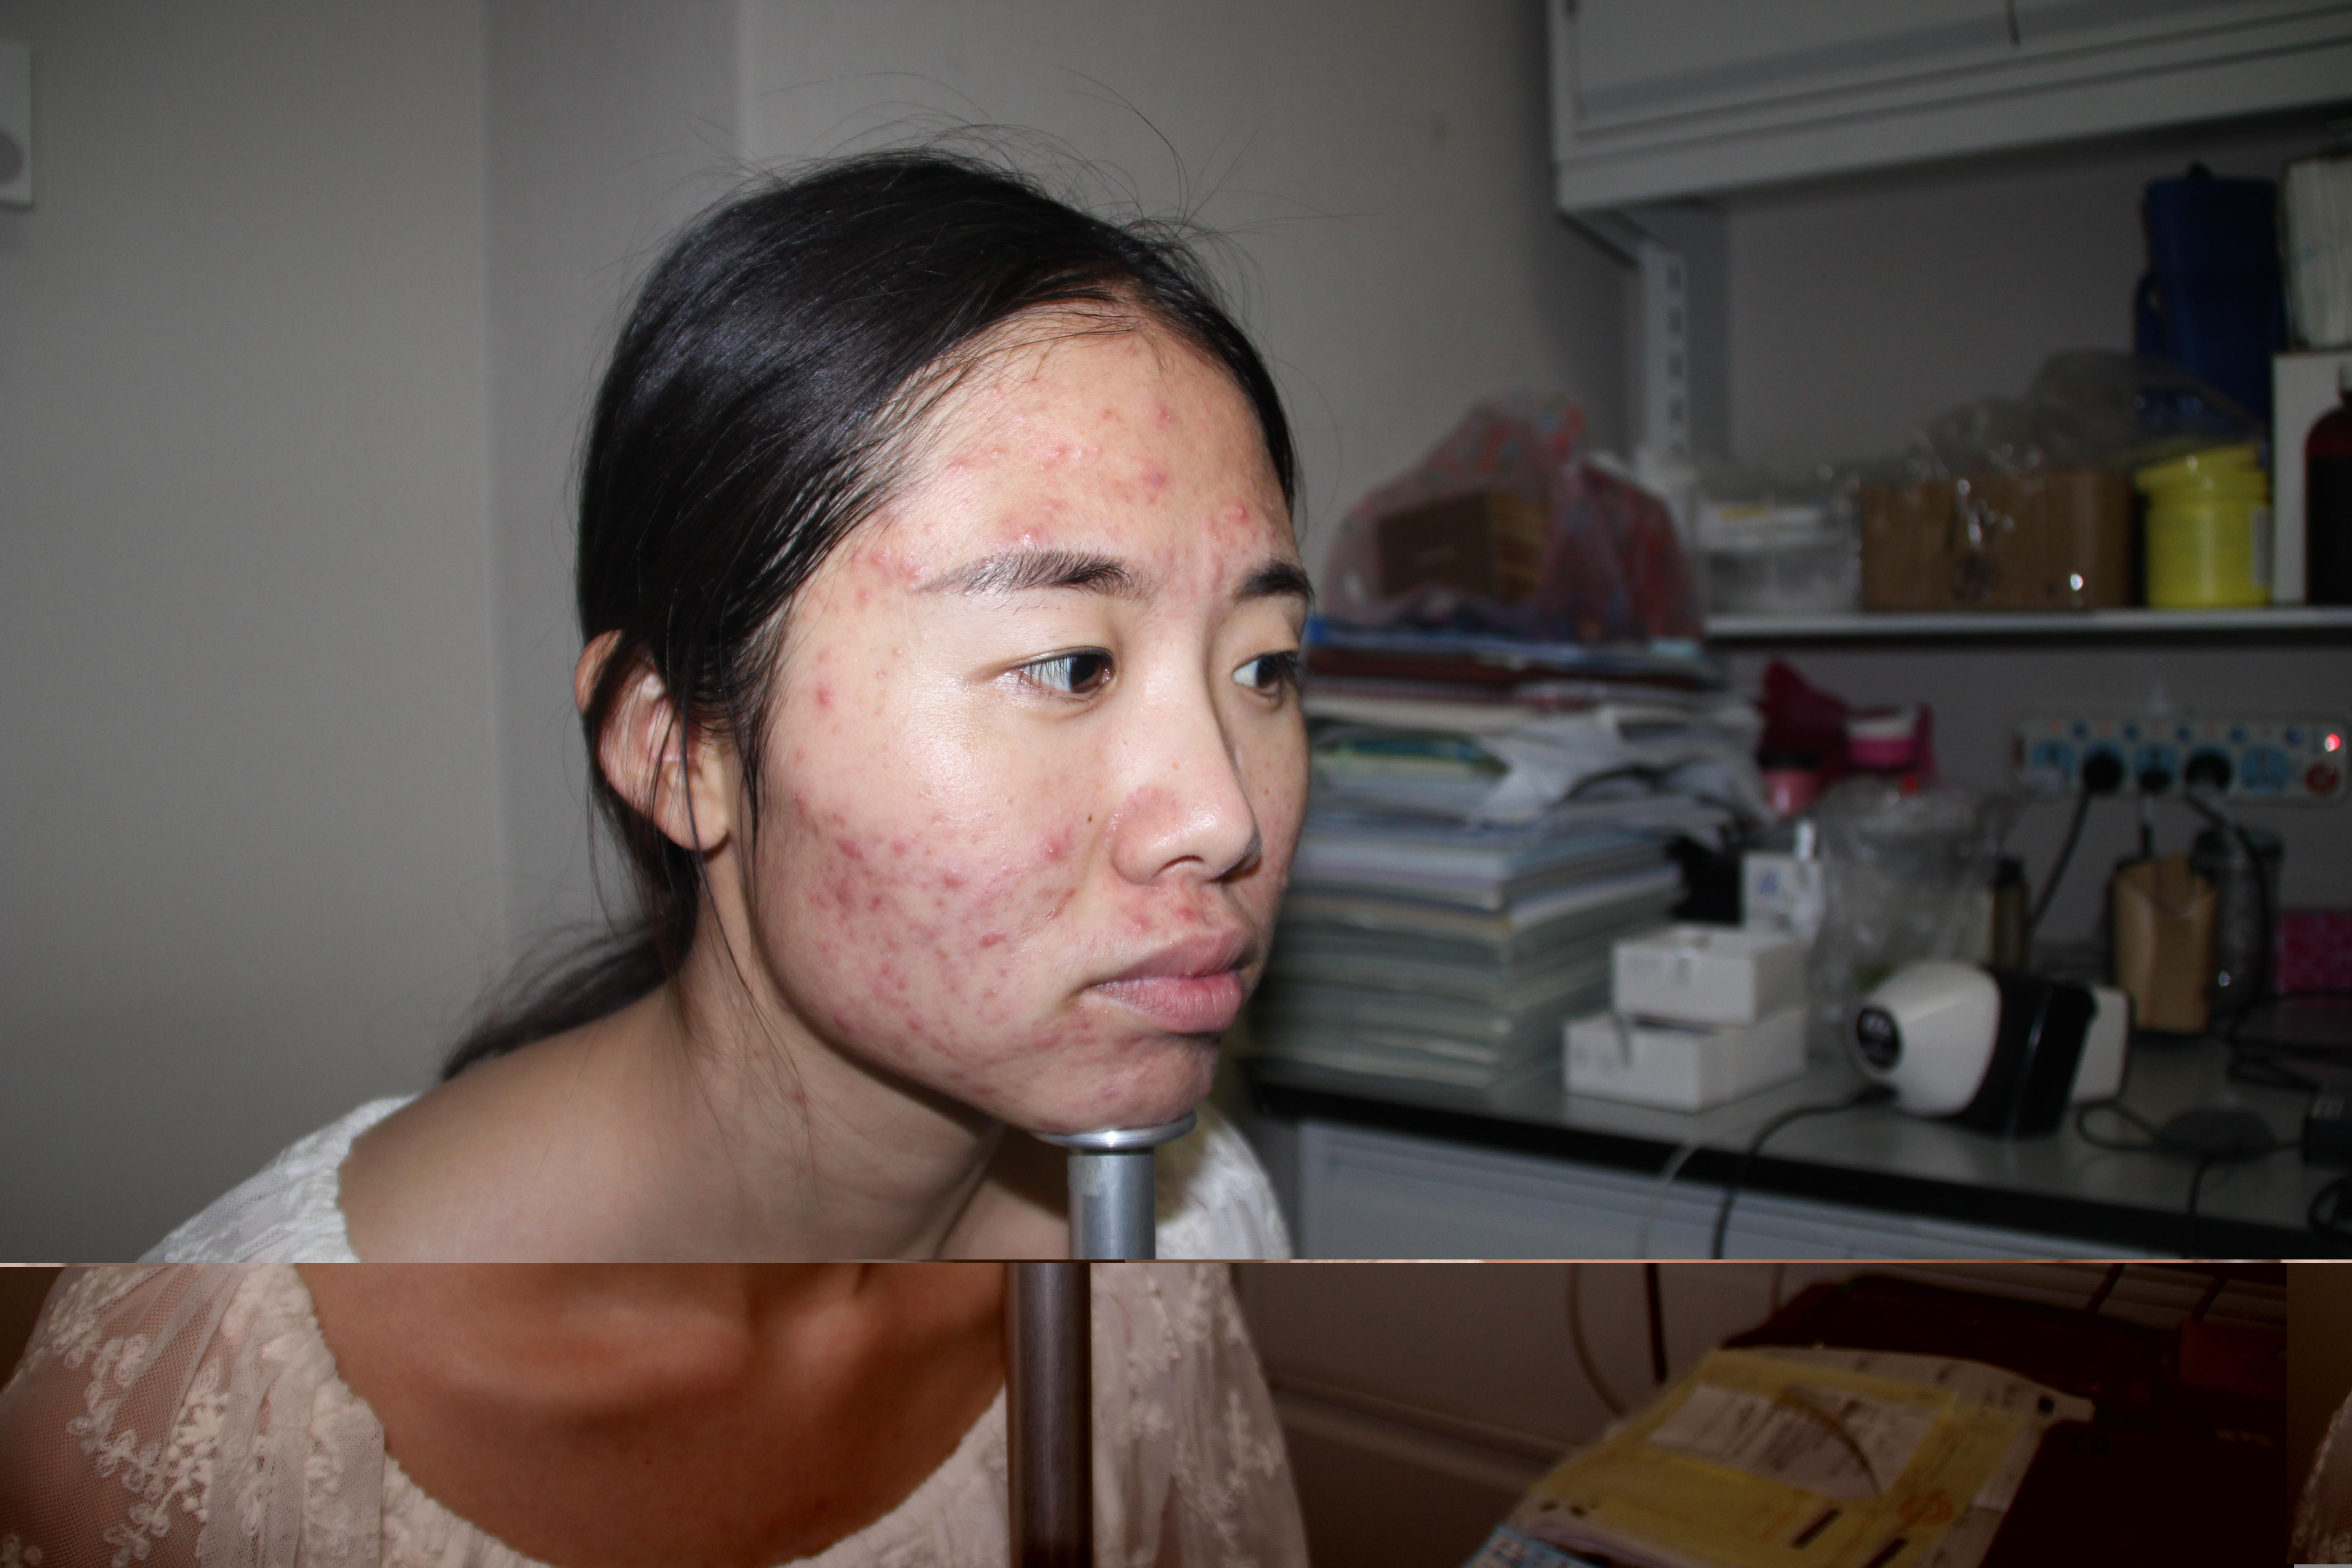fore: (788, 653, 866, 730), (863, 955, 942, 1024), (950, 892, 1019, 968), (935, 1055, 1013, 1111), (914, 843, 978, 905), (1029, 434, 1094, 490), (1022, 1087, 1089, 1139), (835, 574, 891, 633), (831, 812, 886, 873), (886, 1003, 935, 1068), (942, 434, 1001, 486), (831, 1003, 870, 1083), (775, 1071, 828, 1129), (1019, 1015, 1069, 1074), (854, 852, 898, 920), (782, 765, 831, 824), (886, 549, 935, 602), (985, 518, 1089, 542), (807, 873, 859, 920), (1022, 821, 1076, 861), (1166, 896, 1220, 936), (901, 905, 942, 954), (1129, 900, 1166, 952), (1129, 458, 1169, 502), (976, 999, 1020, 1040), (1013, 884, 1060, 920), (831, 534, 886, 565), (1057, 877, 1099, 915), (926, 1022, 968, 1060), (1138, 399, 1181, 434), (1073, 431, 1117, 465), (1197, 557, 1236, 595), (1148, 546, 1187, 584), (831, 922, 875, 954), (810, 936, 845, 975), (1223, 497, 1264, 528), (991, 856, 1027, 889), (1115, 1027, 1153, 1059), (1209, 523, 1248, 555), (1187, 1073, 1216, 1111), (1069, 1012, 1099, 1050), (917, 805, 959, 831), (1068, 1048, 1104, 1078), (936, 975, 970, 1006), (926, 943, 961, 973), (786, 737, 821, 767), (1255, 516, 1290, 546), (989, 959, 1022, 989), (1097, 1071, 1132, 1099), (1256, 490, 1291, 518), (880, 933, 914, 961), (1089, 1015, 1113, 1052), (749, 1034, 779, 1064), (884, 835, 915, 863), (1199, 513, 1223, 548), (1174, 1062, 1199, 1097), (865, 700, 898, 724), (973, 982, 1006, 1006), (1095, 1104, 1129, 1129), (886, 642, 915, 665), (873, 684, 903, 704), (871, 665, 900, 684)
